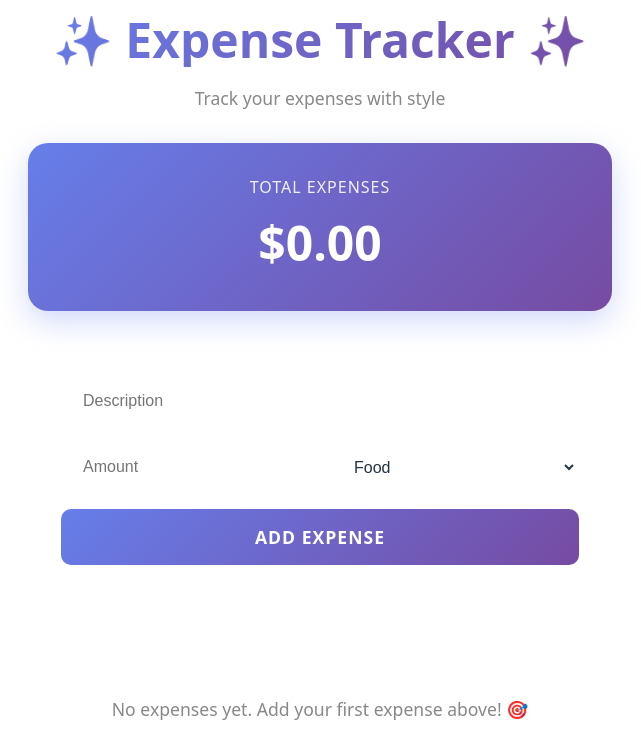
Expense Generator App › calculates total correctly with multiple expenses
Add first expense
Type "Item 1" into the field named "expense description" at (320, 401), box [61,376,579,426]
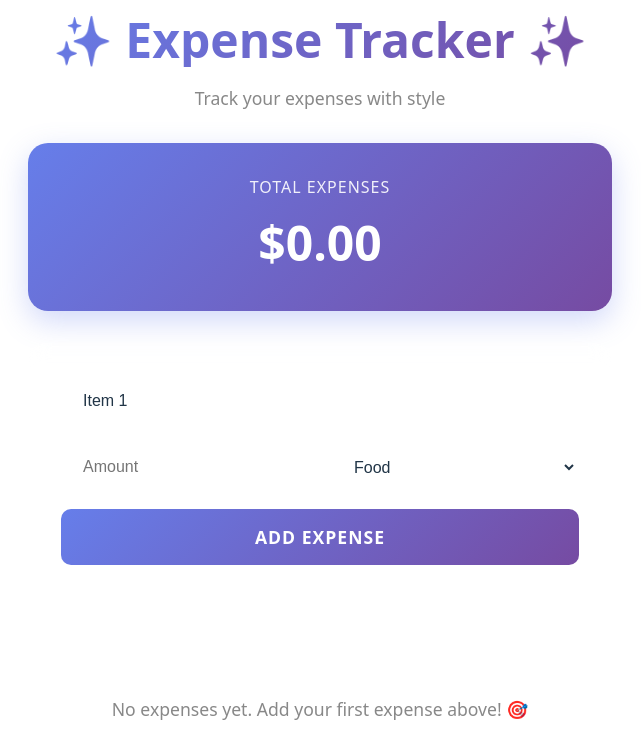
Type "10.50" into the number field named "expense amount" at (186, 467), box [61,442,312,492]
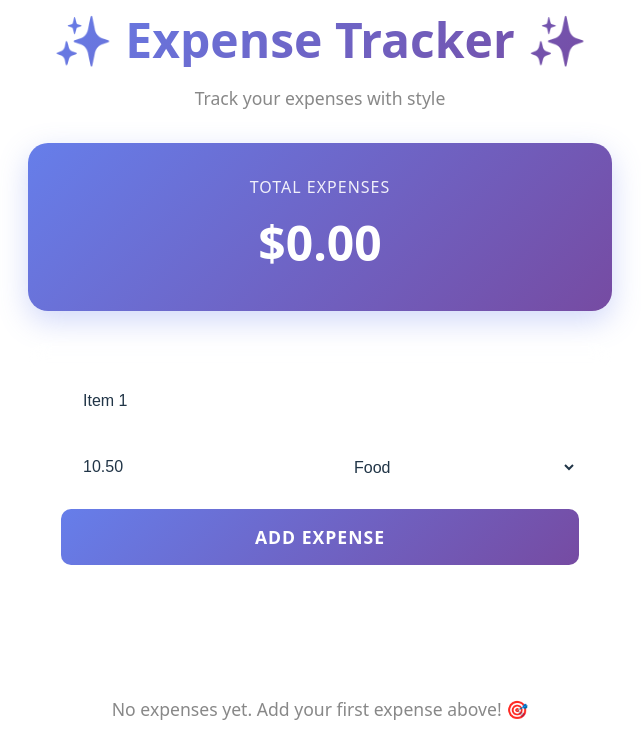
Click the button "Add Expense" at (320, 537), box [61,509,579,565]
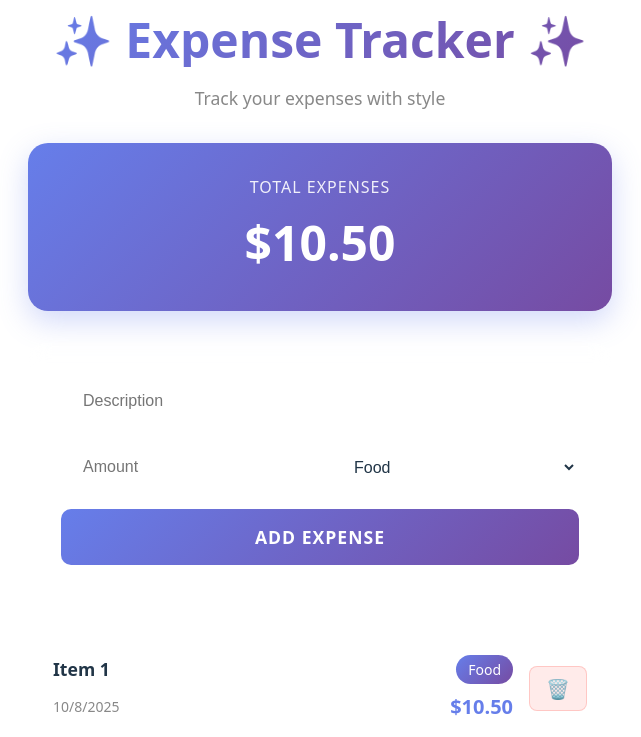
Add second expense
Type "Item 2" into the field named "expense description" at (320, 401), box [61,376,579,426]
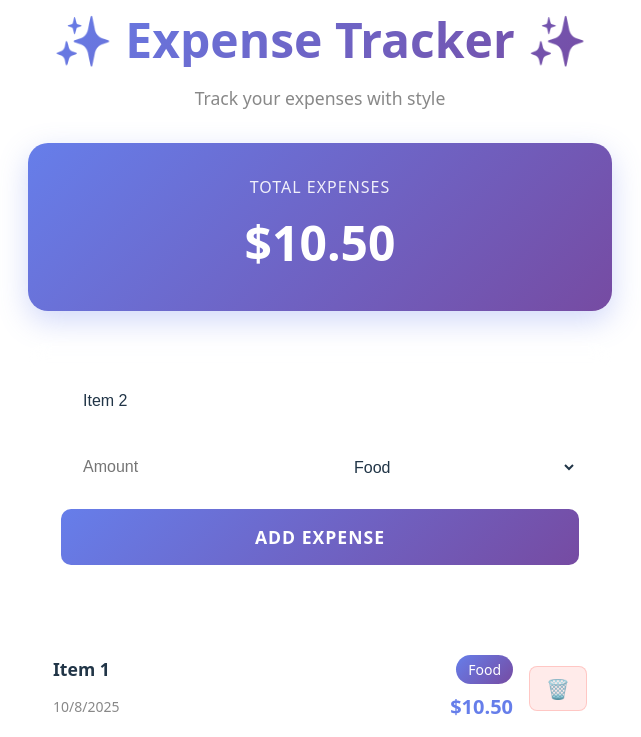
Type "20.25" into the number field named "expense amount" at (186, 467), box [61,442,312,492]
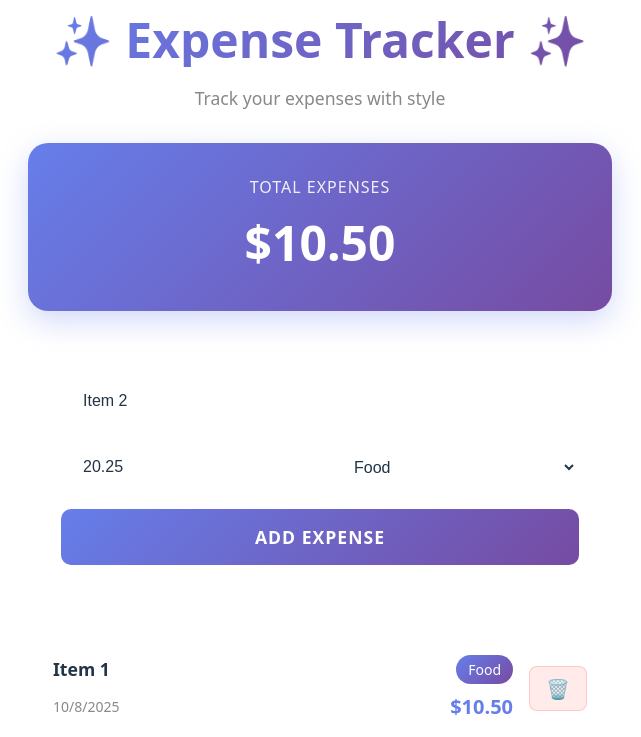
Click the button "Add Expense" at (320, 537), box [61,509,579,565]
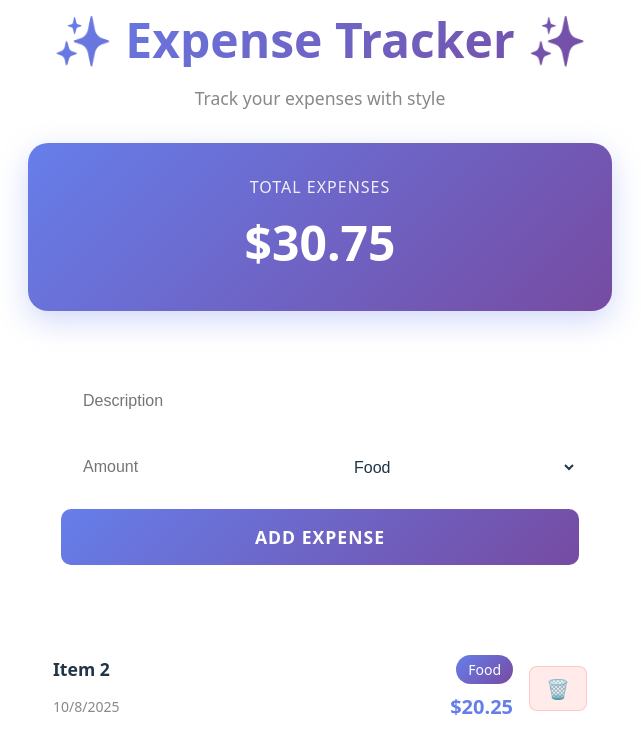
Now the text "$30.75" is shown, box [244,210,396,275]
